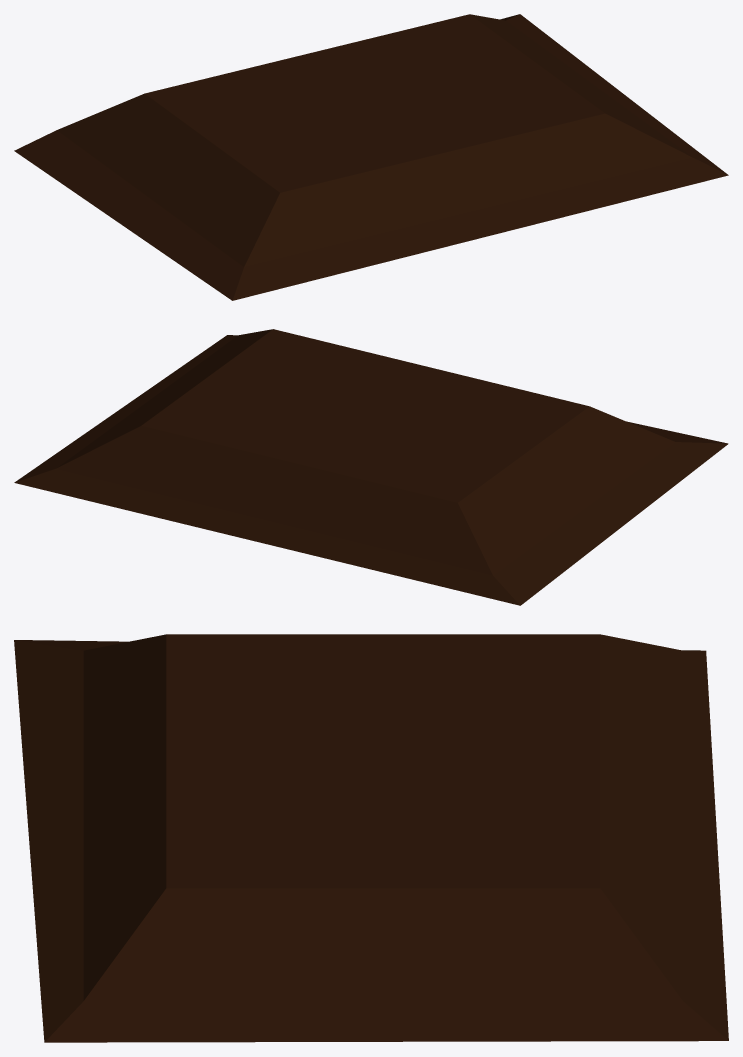
Rendered from roof1.fbx.
3 renders of one model, top to bottom at view 1: azimuth 30°, elevation 25°; view 2: azimuth 150°, elevation 25°; view 3: azimuth 270°, elevation 25°, orthographic. The views are drawn at different scales.
Visible parts, largest first — view 1: Cube.007; view 2: Cube.007; view 3: Cube.007.
Part boxes in pixels (x1,y1,x2,y2): Cube.007: (14,14,728,300); Cube.007: (14,329,728,605); Cube.007: (14,634,728,1042).
Size of the model in its own units: 3410 by 366 by 2571.
